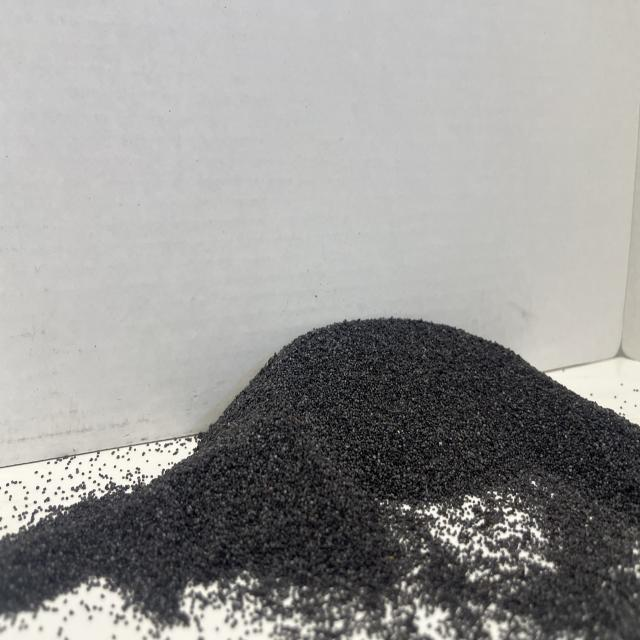Poppy Seeds: (123, 305, 640, 630)
